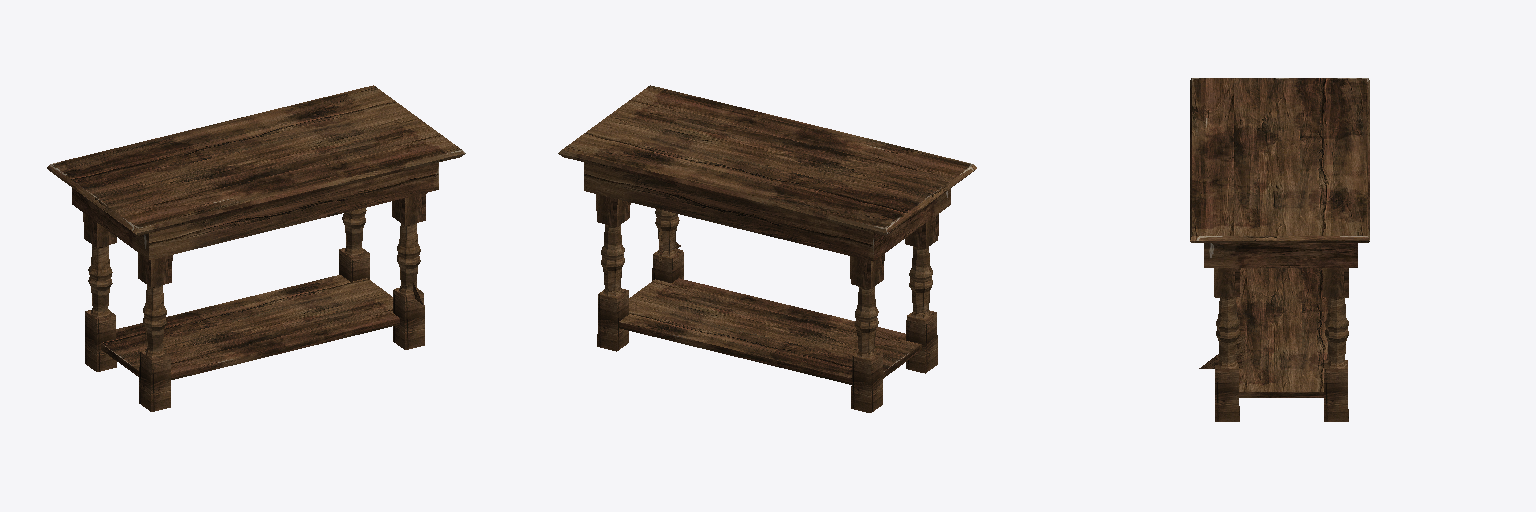
3 views of the same model, side by side, from view 1: azimuth 30°, elevation 25°; view 2: azimuth 150°, elevation 25°; view 3: azimuth 270°, elevation 25° (orthographic).
Visible parts, largest first — view 1: mesh0; view 2: mesh0; view 3: mesh0.
Boxes of the visible parts, box(x1,y1,x2,y2) form: mesh0: box(47, 85, 465, 411); mesh0: box(558, 85, 976, 412); mesh0: box(1190, 78, 1369, 421).
Bounding box in the file's own units: 2.04 × 1.17 × 0.9639.
Materials: 1 (1 with a texture image).